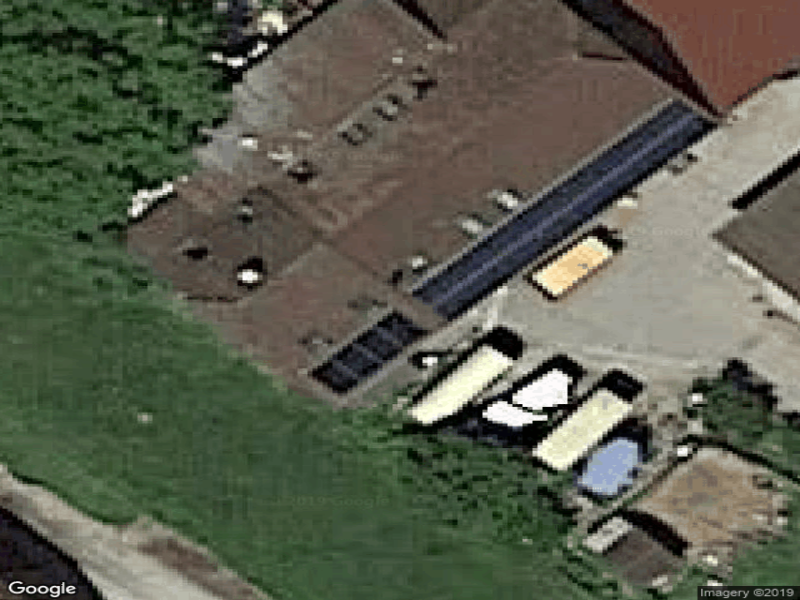pv: (412, 97, 717, 321), (309, 308, 429, 397)
